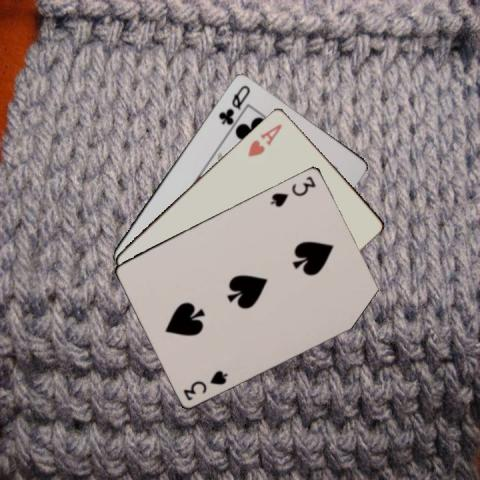3s: (268, 173, 317, 208), (180, 367, 229, 402)
Ah: (245, 120, 283, 158)
Qc: (215, 81, 252, 126)
